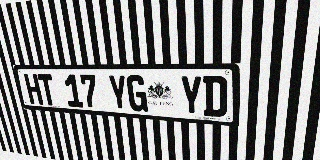1: (63, 74, 84, 108)
7: (79, 74, 100, 109)
D: (203, 76, 227, 117)
G: (126, 75, 148, 112)
H: (24, 74, 44, 105)
T: (37, 74, 57, 106)
Y: (179, 75, 203, 116), (107, 75, 129, 111)
